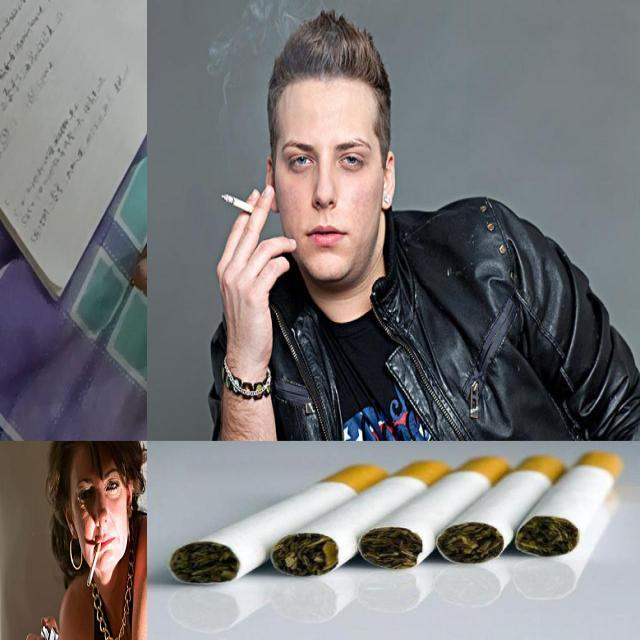smoking: (168, 464, 388, 585), (271, 459, 455, 577), (359, 456, 513, 571), (436, 454, 568, 564), (514, 450, 624, 558), (220, 194, 260, 218), (86, 542, 102, 588)
